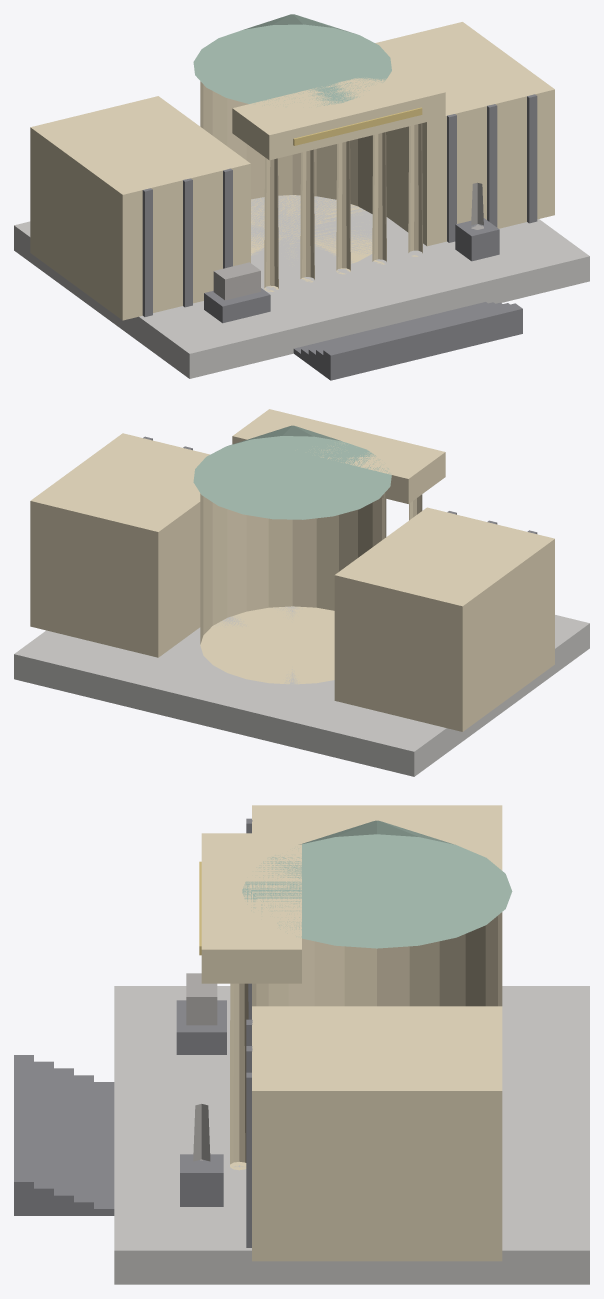
Rendered from state_museum_bhopal.glb.
The picture shows the model from 3 angles, top to bottom: view 1: azimuth 30°, elevation 25°; view 2: azimuth 150°, elevation 25°; view 3: azimuth 270°, elevation 25°; orthographic projection. The views are drawn at different scales.
Parts seen in each view (by area): view 1: StateMuseumBhopal_Root; view 2: StateMuseumBhopal_Root; view 3: StateMuseumBhopal_Root.
Boxes of the visible parts, x1,y1,x2,y2 form: StateMuseumBhopal_Root: [14, 14, 589, 380]; StateMuseumBhopal_Root: [14, 409, 589, 776]; StateMuseumBhopal_Root: [14, 805, 589, 1284].
Size of the model in its own units: 2.3 by 1.24 by 1.96.
